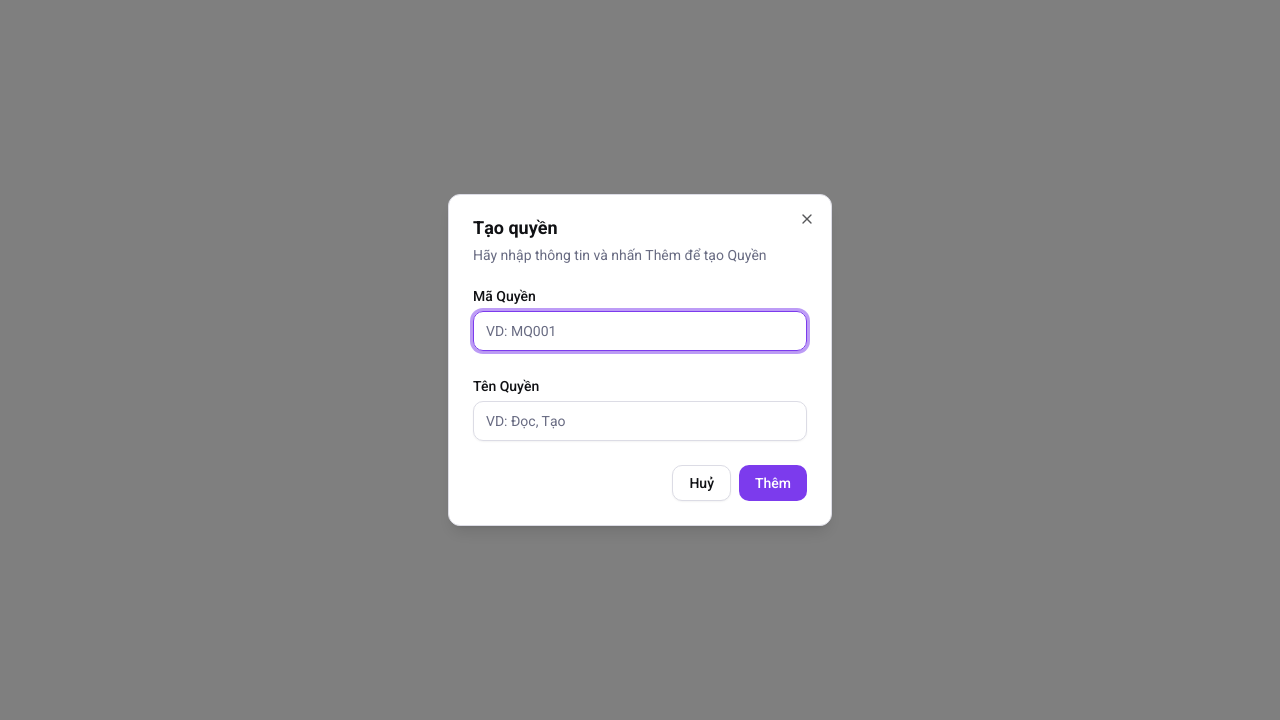
CreatePermissionDialog › shows validation error for short TenQuyen
The width and height of the screenshot is (1280, 720).
Type "MQ001" into the field labelled "Mã Quyền" at (640, 331), box [473,311,807,351]
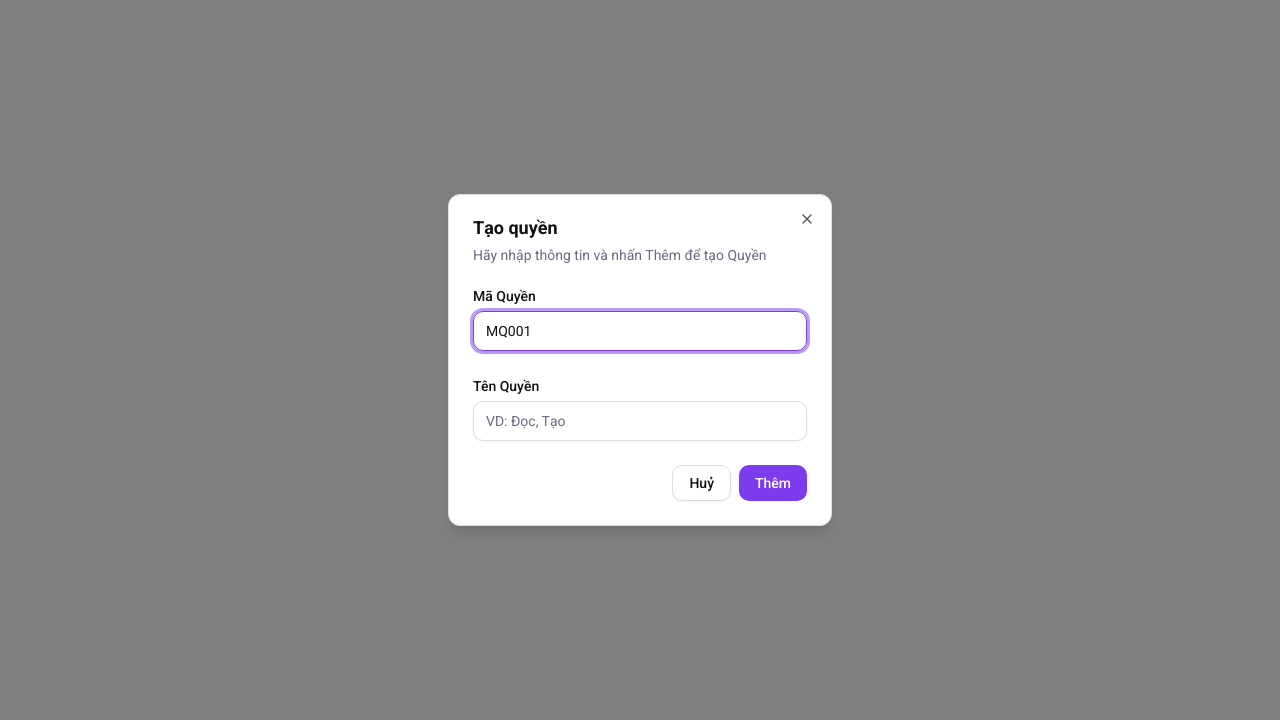
Type "Đọ" into the field labelled "Tên Quyền" at (640, 421), box [473,401,807,441]
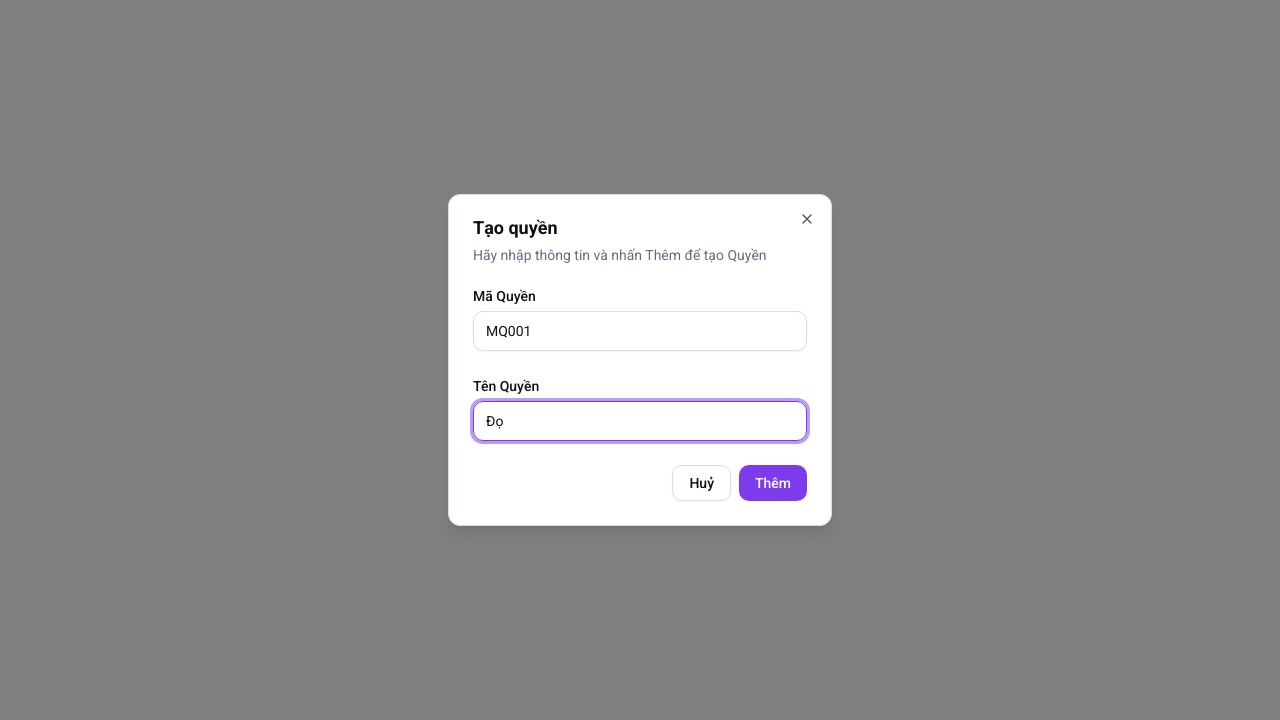
Submit the form, box [473,219,807,501]
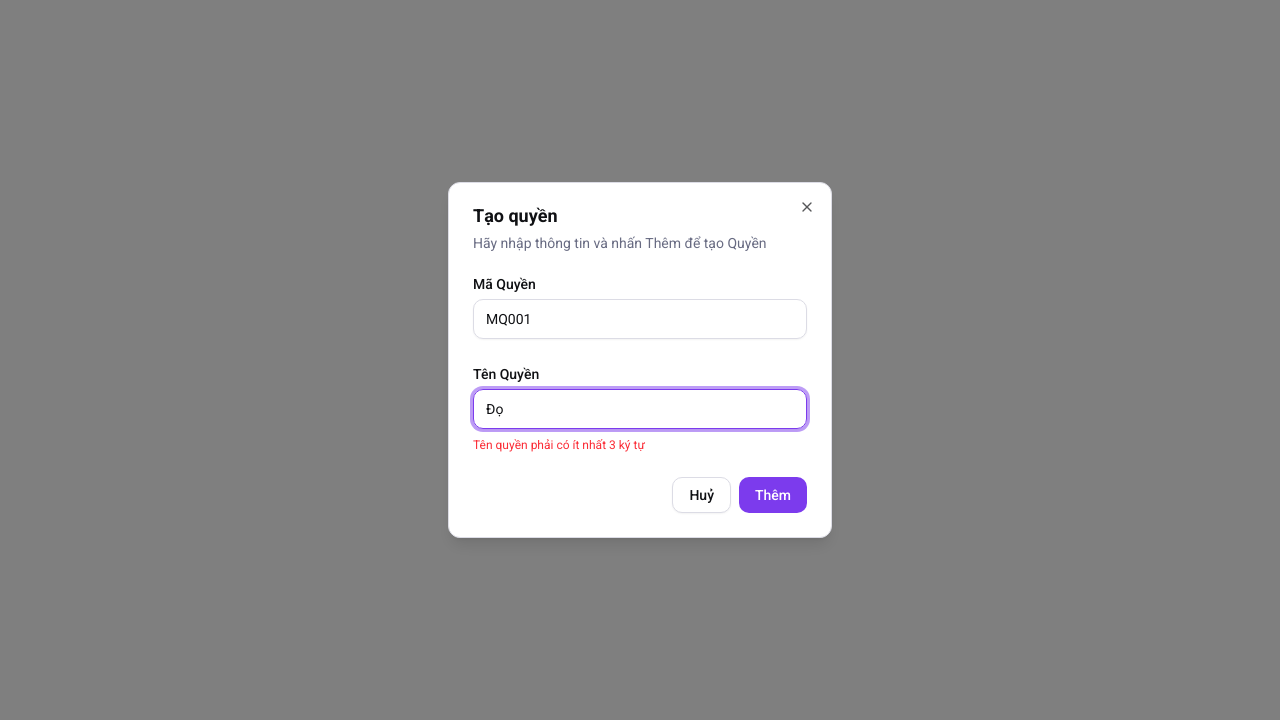
Check: the text "Tên quyền phải có ít nhất 3 ký tự" is shown, box [473,438,645,452]
